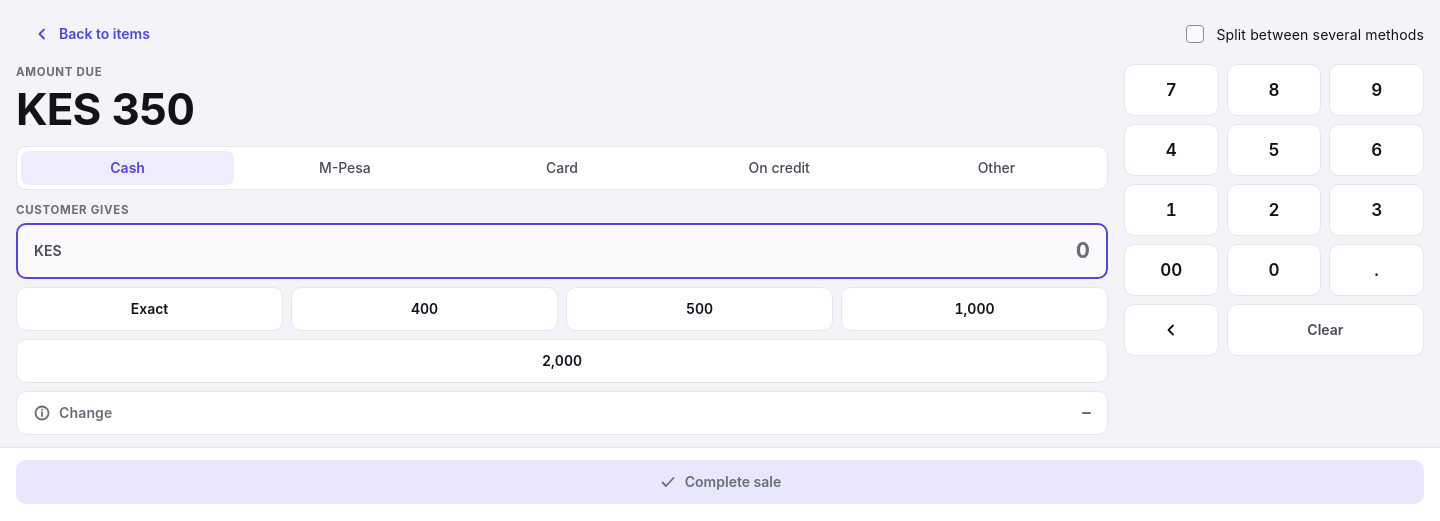
Test: cash: quick cash, pad and Change (AC-19) › Change says Short with an icon and what is still to pay
Click the button "2".
click(1274, 210)  # box top-left (1227, 184), bottom-right (1321, 236)
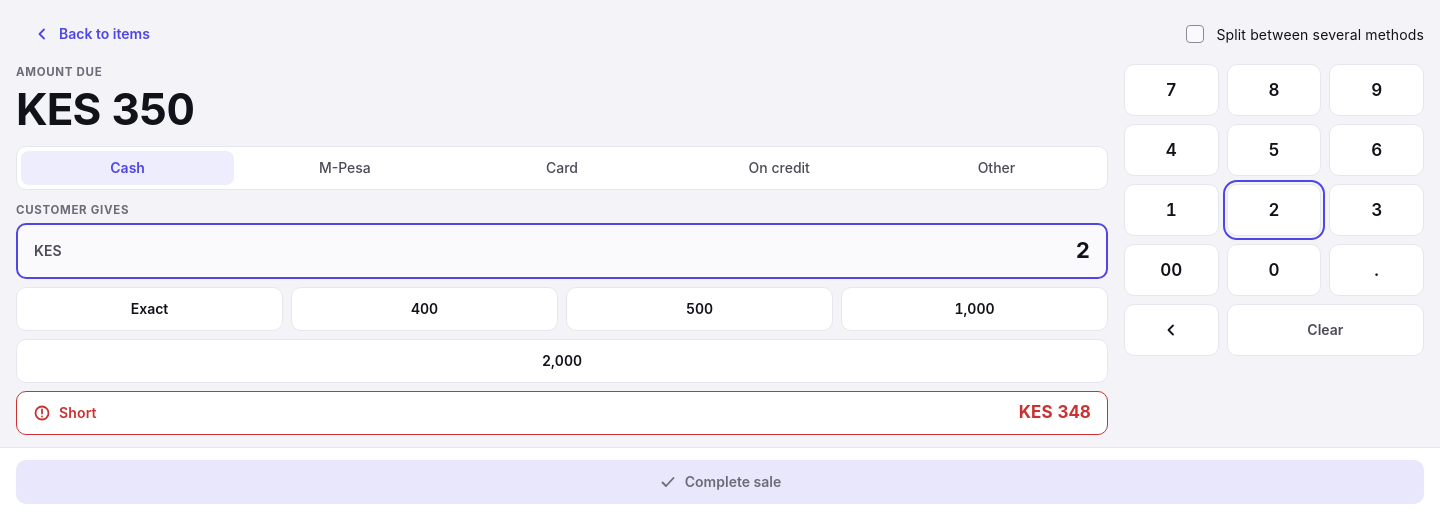
Click the button "00".
click(1171, 270)  # box top-left (1124, 244), bottom-right (1219, 296)
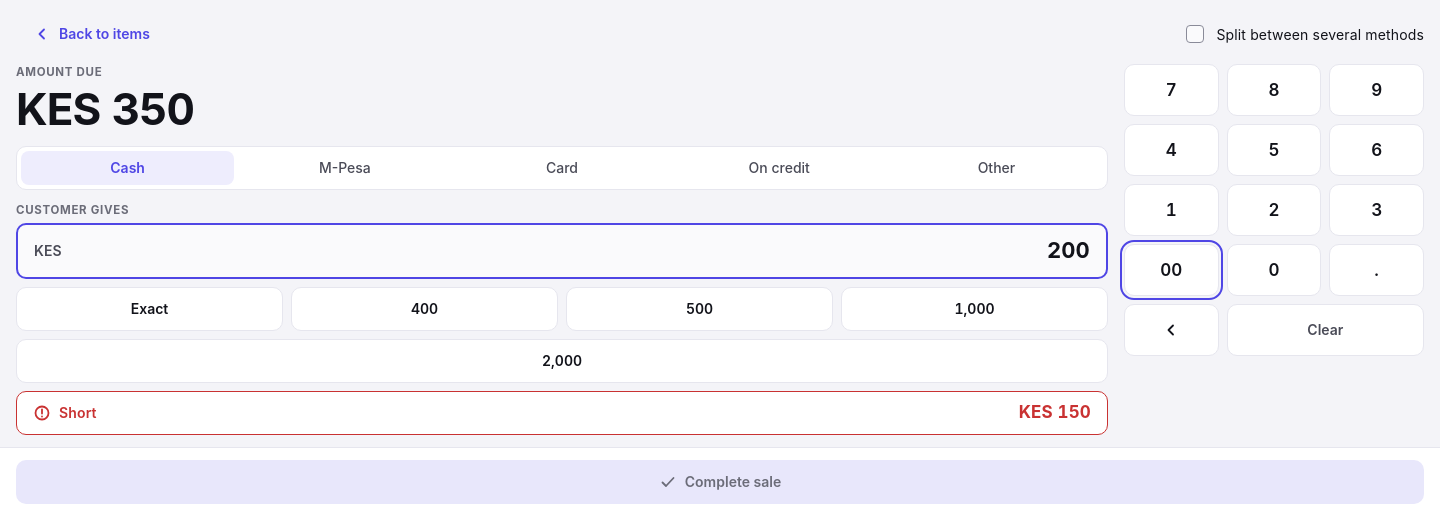
Check: the icon next to "Short" is shown, box top-left (33, 404), bottom-right (51, 422)
Check: the text "KES 150" is shown, box top-left (1019, 400), bottom-right (1091, 426)
